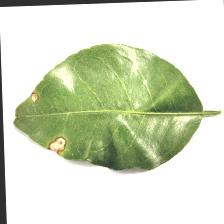canker: (24, 83, 80, 154)
